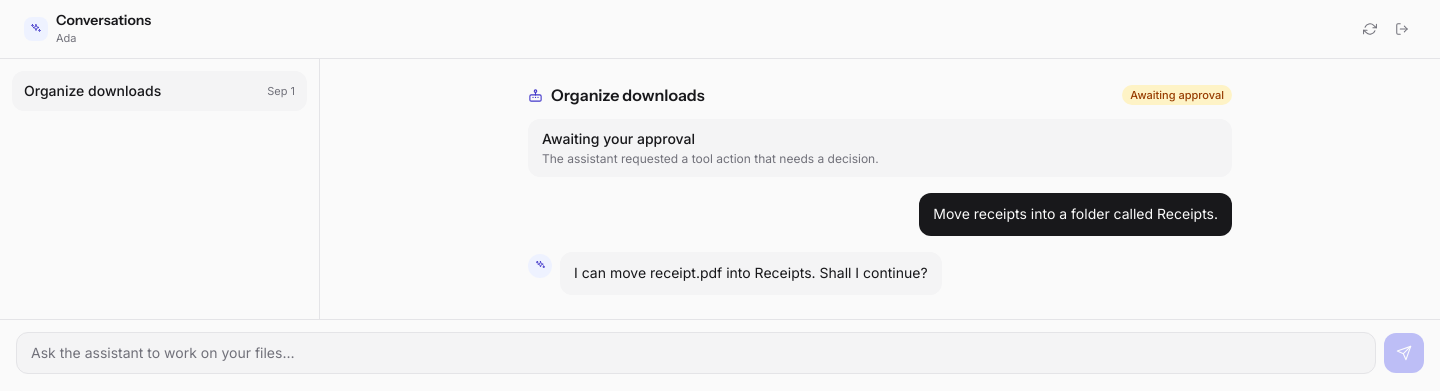
Test: AIHistoryView › drives host executions when a submit pauses at a filesystem operation, then reconciles
The width and height of the screenshot is (1440, 391).
Expected: the text "Move receipts into a folder called Receipts." is shown, [933,203,1218,226]
Type "Move the scanned PDFs into a folder called Scanned." into the field named "Give the assistant an instruction".
click(696, 352); type("Move the scanned PDFs into a folder called Scanned.")  # box [16,332,1376,374]
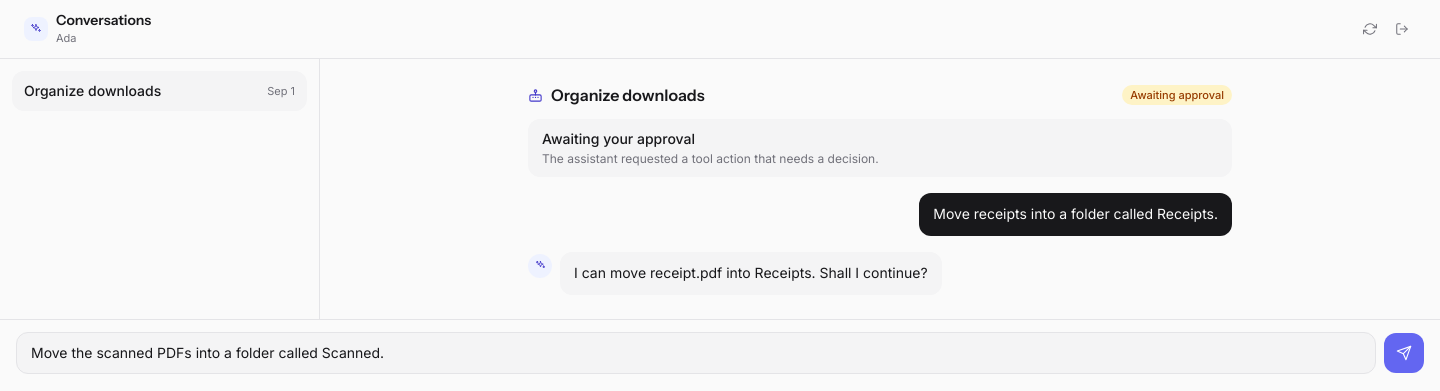
Click the button named "Send instruction".
click(1404, 352)  # box [1384,332,1424,372]
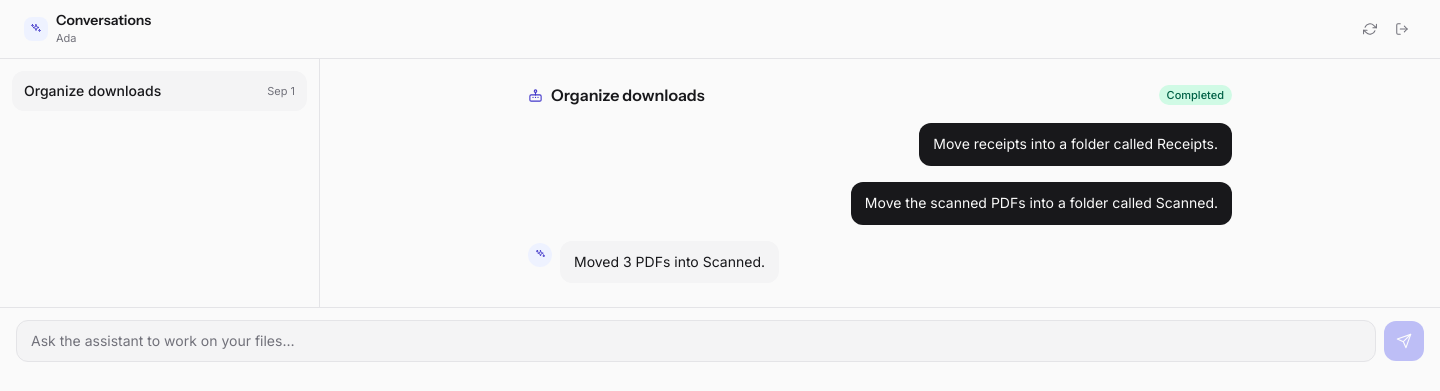
Expected: the text "Moved 3 PDFs into Scanned." is shown, [574,250,765,273]
